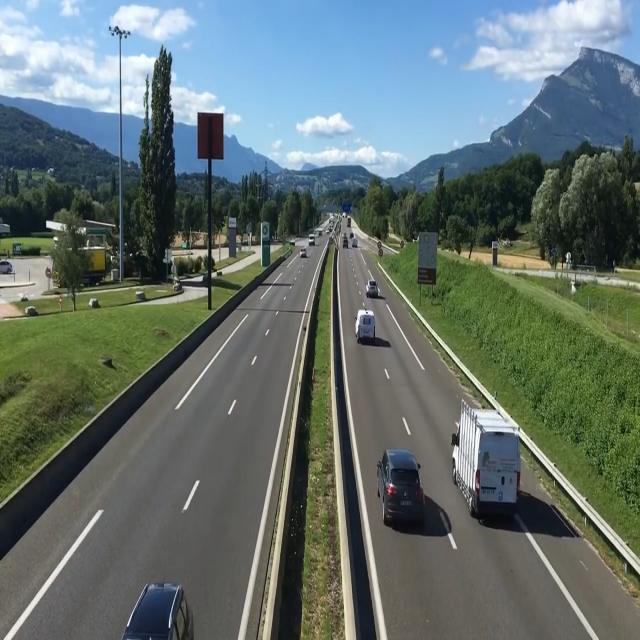car: (449, 389, 519, 534), (107, 575, 197, 640), (382, 453, 426, 536), (356, 308, 378, 348), (364, 275, 383, 304)
